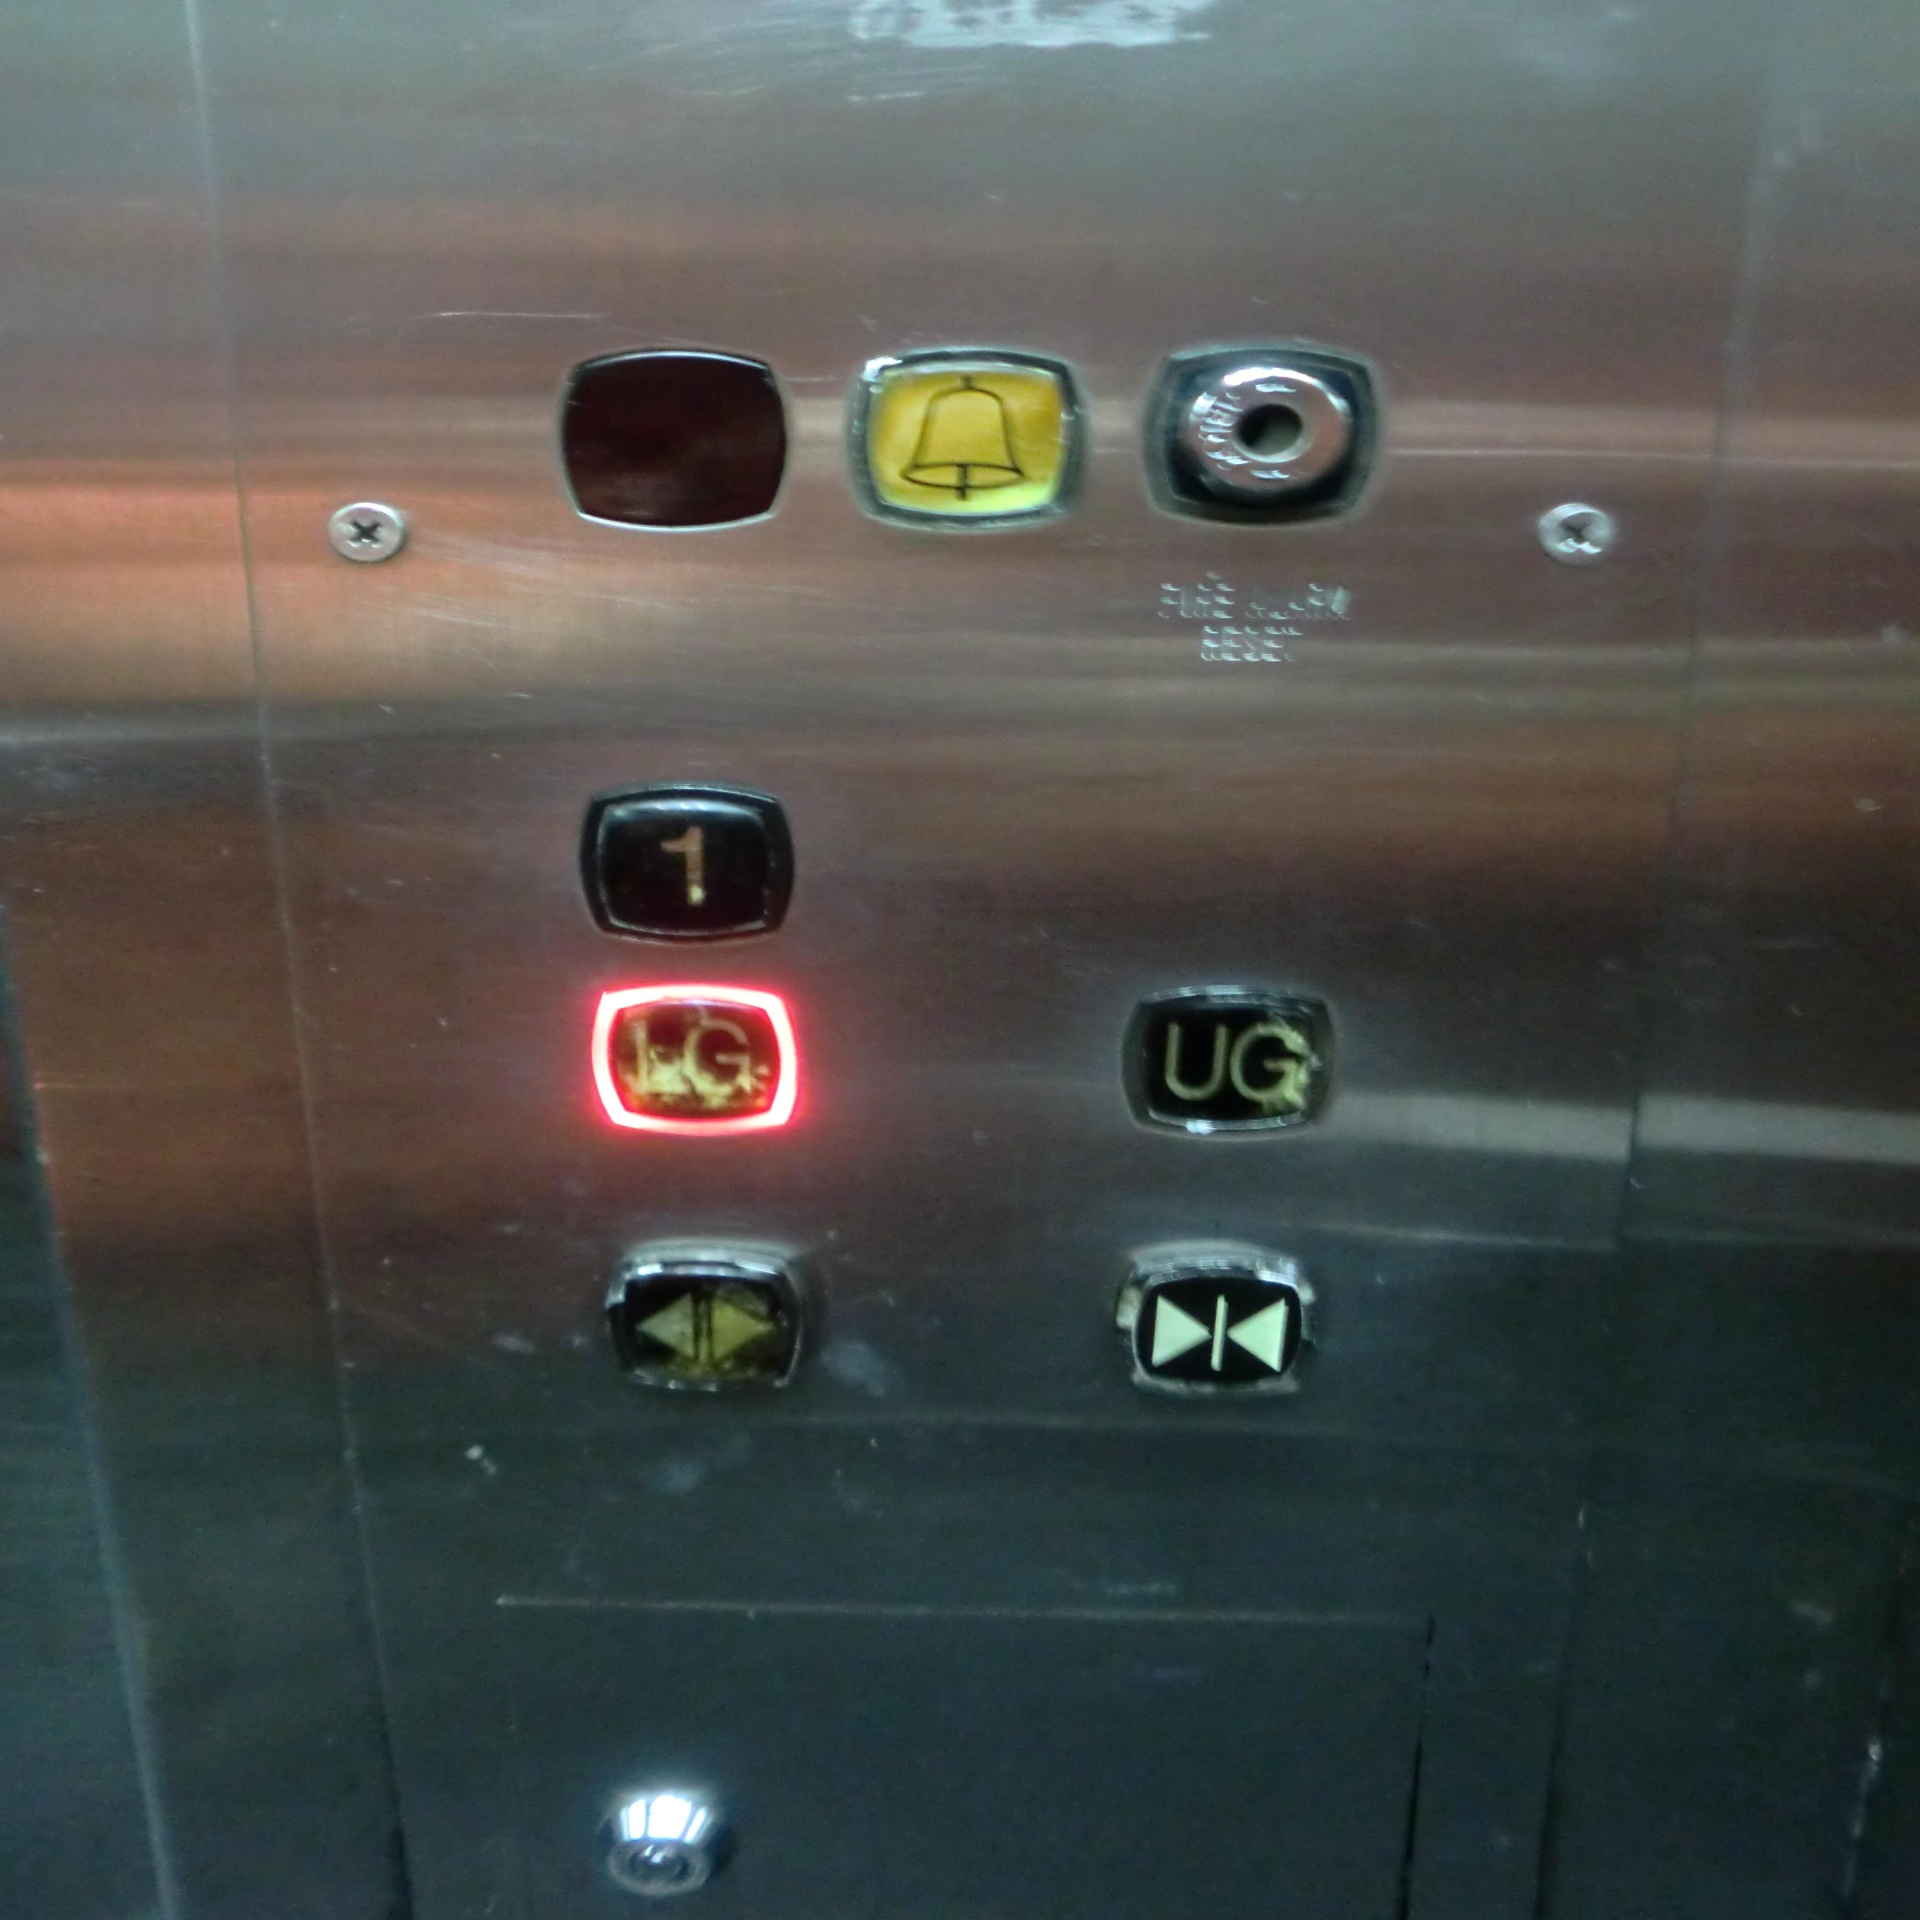1: (566, 774, 811, 960)
LG: (571, 976, 816, 1162)
UG: (1108, 972, 1350, 1159)
alarm: (840, 332, 1085, 538)
close: (1094, 1231, 1327, 1429)
empty: (545, 332, 805, 547)
open: (589, 1224, 823, 1424)
unknown: (1141, 331, 1396, 542)
